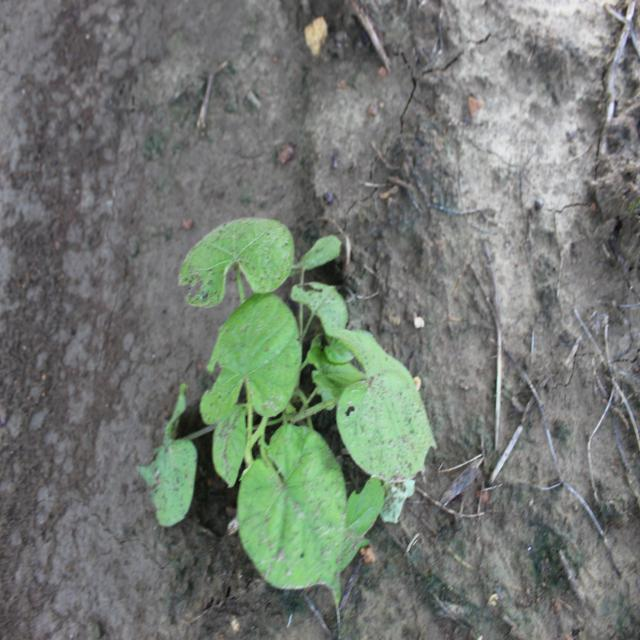MorningGlory: (134, 213, 441, 609)
